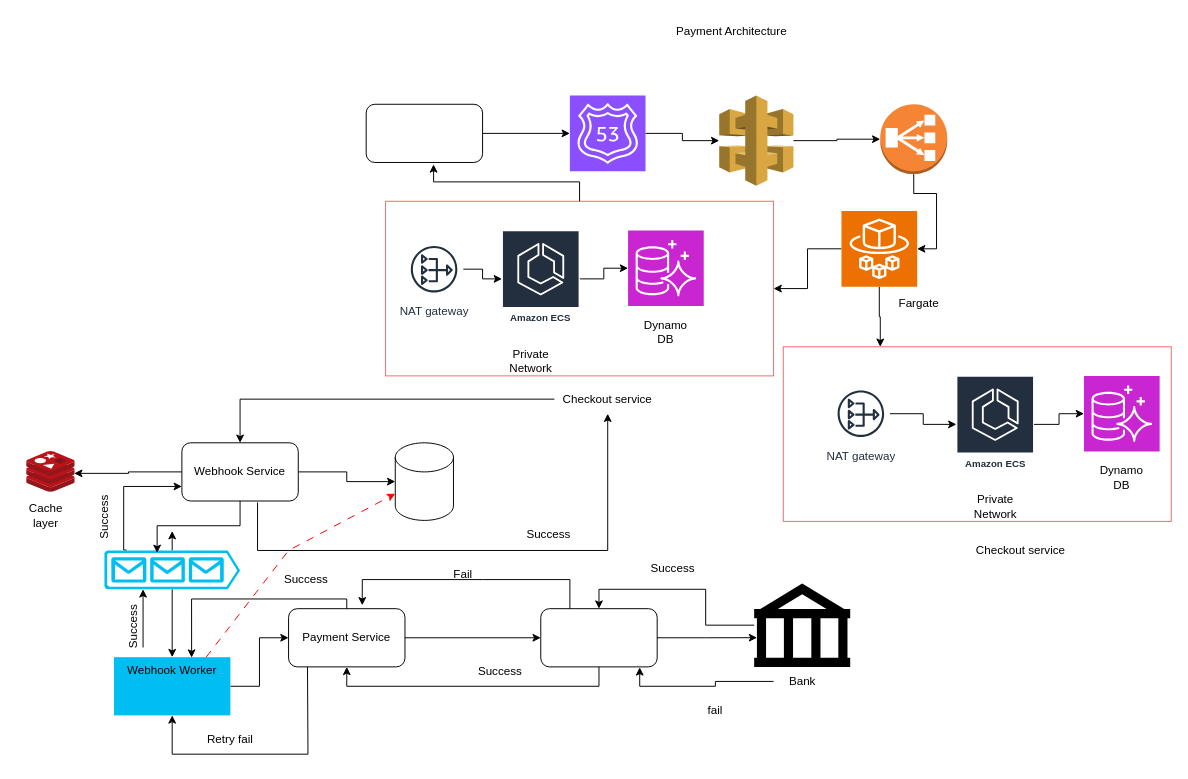
Image size: 1188x779. Some labels were removed from this diagram. The centre of each missing label's shape, as x and y in pixels:
Merchant: point (424, 132)
Payment Gateway: point (598, 637)
Persist data: point (423, 481)
